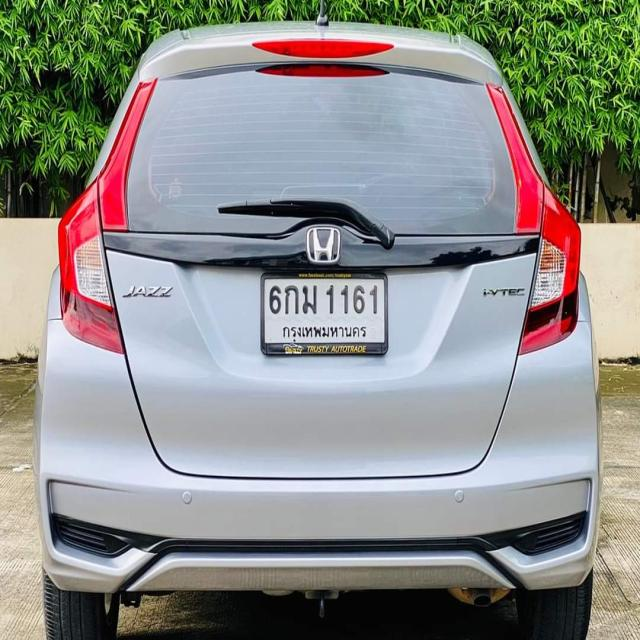license_plate: (259, 270, 388, 358)
